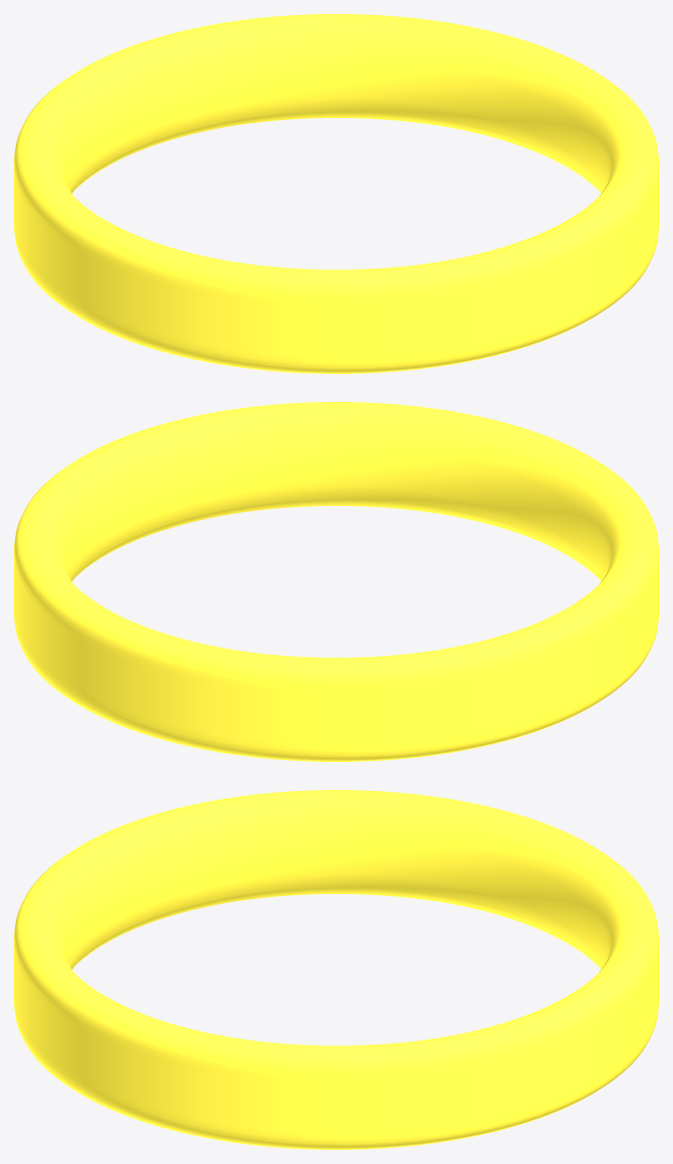
The model's file is ring.fbx.
3 renders of one model, top to bottom at view 1: azimuth 30°, elevation 25°; view 2: azimuth 150°, elevation 25°; view 3: azimuth 270°, elevation 25°, orthographic.
Parts seen in each view (by area): view 1: ring; view 2: ring; view 3: ring.
Boxes of the visible parts, left/top/right/bottom form: ring: left=14, top=14, right=658, bottom=373; ring: left=14, top=402, right=658, bottom=761; ring: left=14, top=790, right=658, bottom=1149.
Size of the model in its own units: 0.1144 by 0.0194 by 0.1144.
